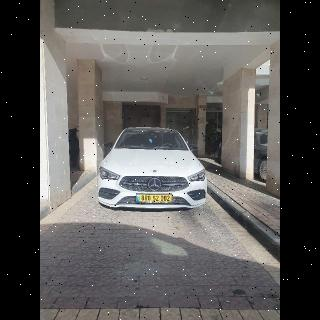LicensePlate: (141, 195, 172, 202)
